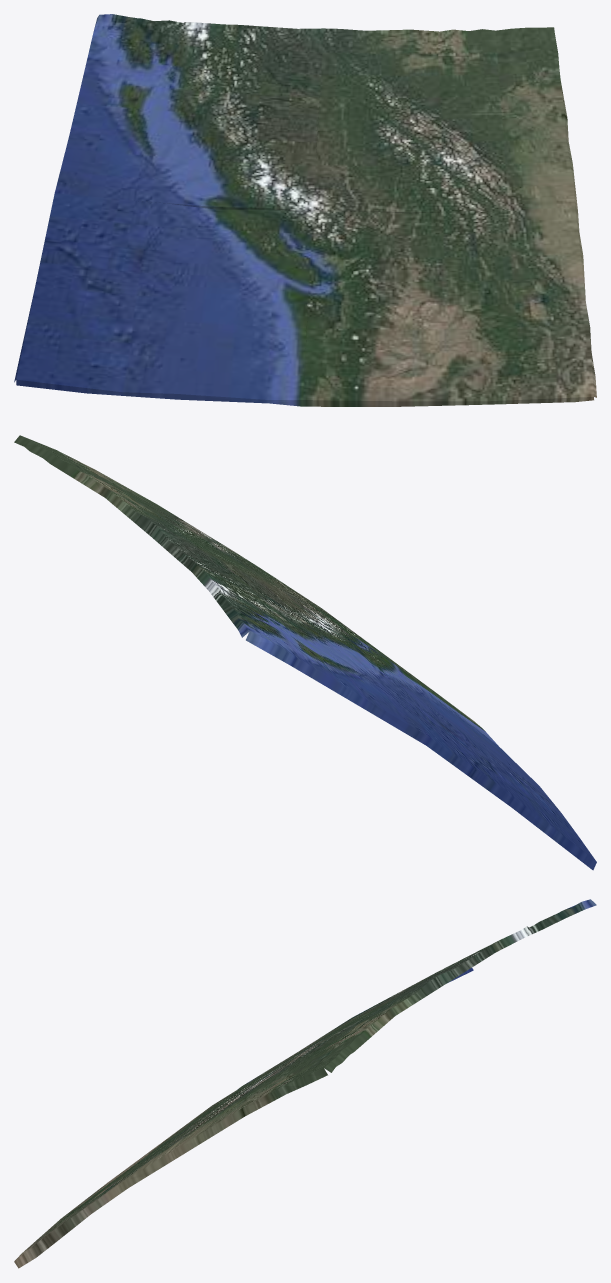
3 views of the same model, one above another, from view 1: azimuth 30°, elevation 25°; view 2: azimuth 150°, elevation 25°; view 3: azimuth 270°, elevation 25° (orthographic). The views are drawn at different scales.
Size of the model in its own units: 1847936 by 827512 by 1685972.
Materials: 1 (1 with a texture image).
